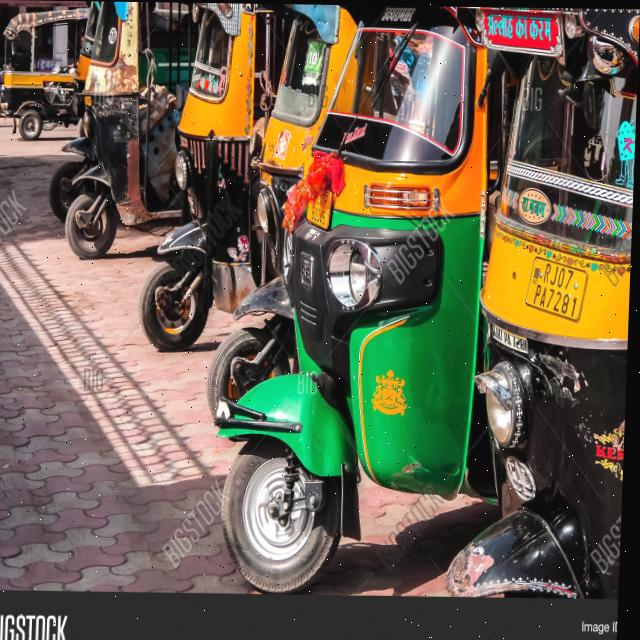plate: (524, 247, 594, 323)
